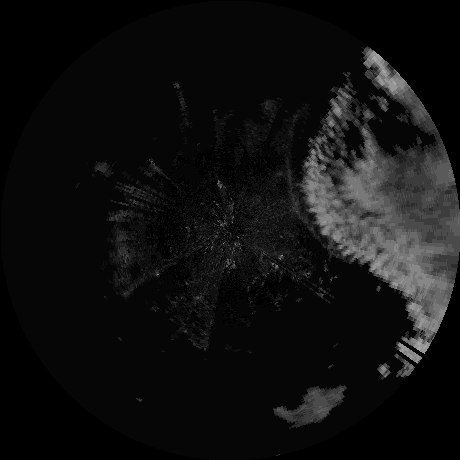frontgust: (283, 161, 298, 214)
